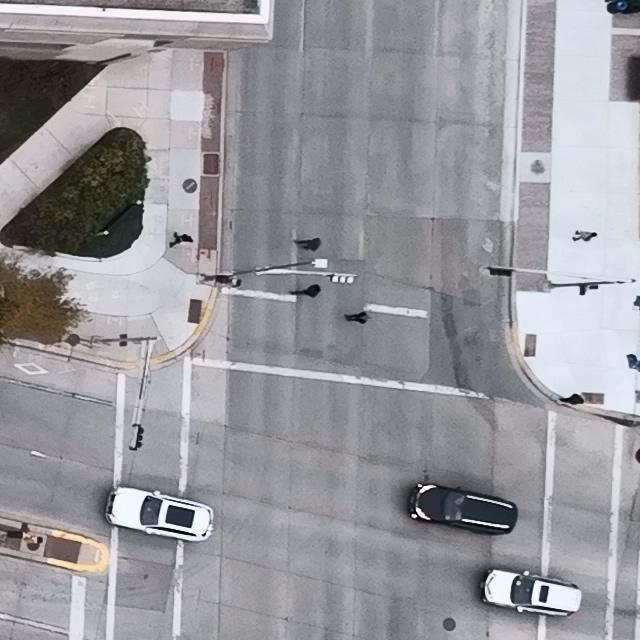car: (104, 486, 215, 542), (407, 483, 517, 534), (480, 569, 583, 617)
